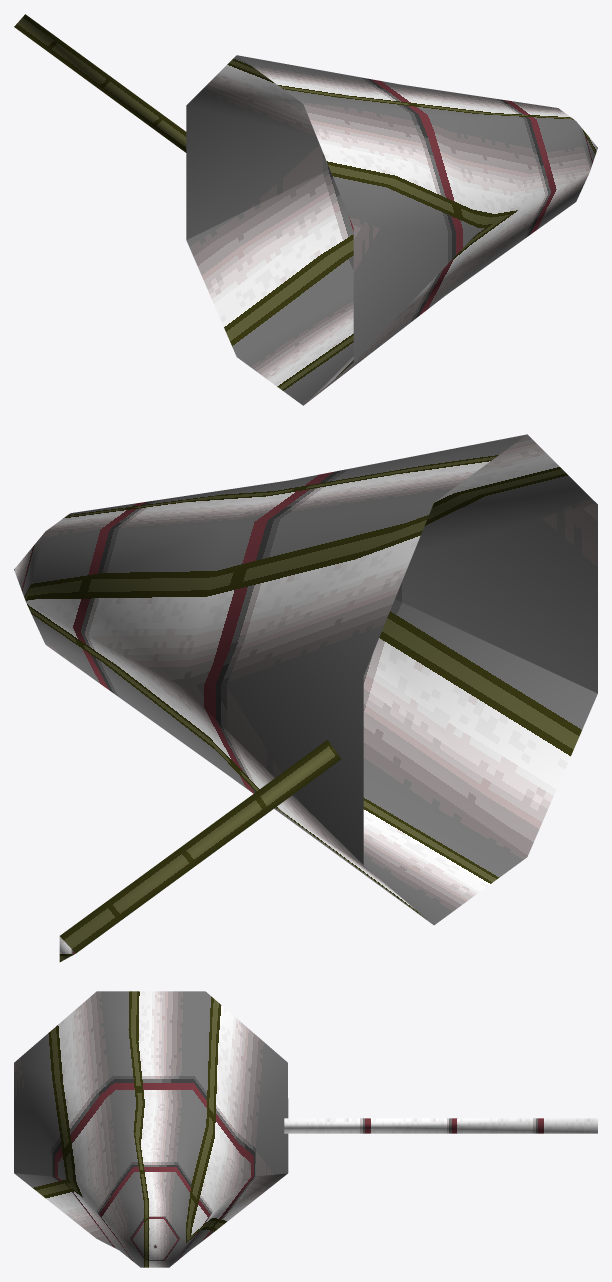
The model's file is 1312equip03_d.gltf.
The picture shows the model from 3 angles, top to bottom: view 1: azimuth 30°, elevation 25°; view 2: azimuth 150°, elevation 25°; view 3: azimuth 270°, elevation 25°; orthographic projection. The views are drawn at different scales.
Visible parts, largest first — view 1: 1312equip03_d; view 2: 1312equip03_d; view 3: 1312equip03_d.
Part boxes in pixels (bbox=[...]): 1312equip03_d: bbox=[14, 14, 597, 405]; 1312equip03_d: bbox=[14, 434, 597, 961]; 1312equip03_d: bbox=[14, 991, 597, 1267].
Bounding box in the file's own units: 0.8721 × 0.761 × 1.63.
Materials: 1 (1 with a texture image).
